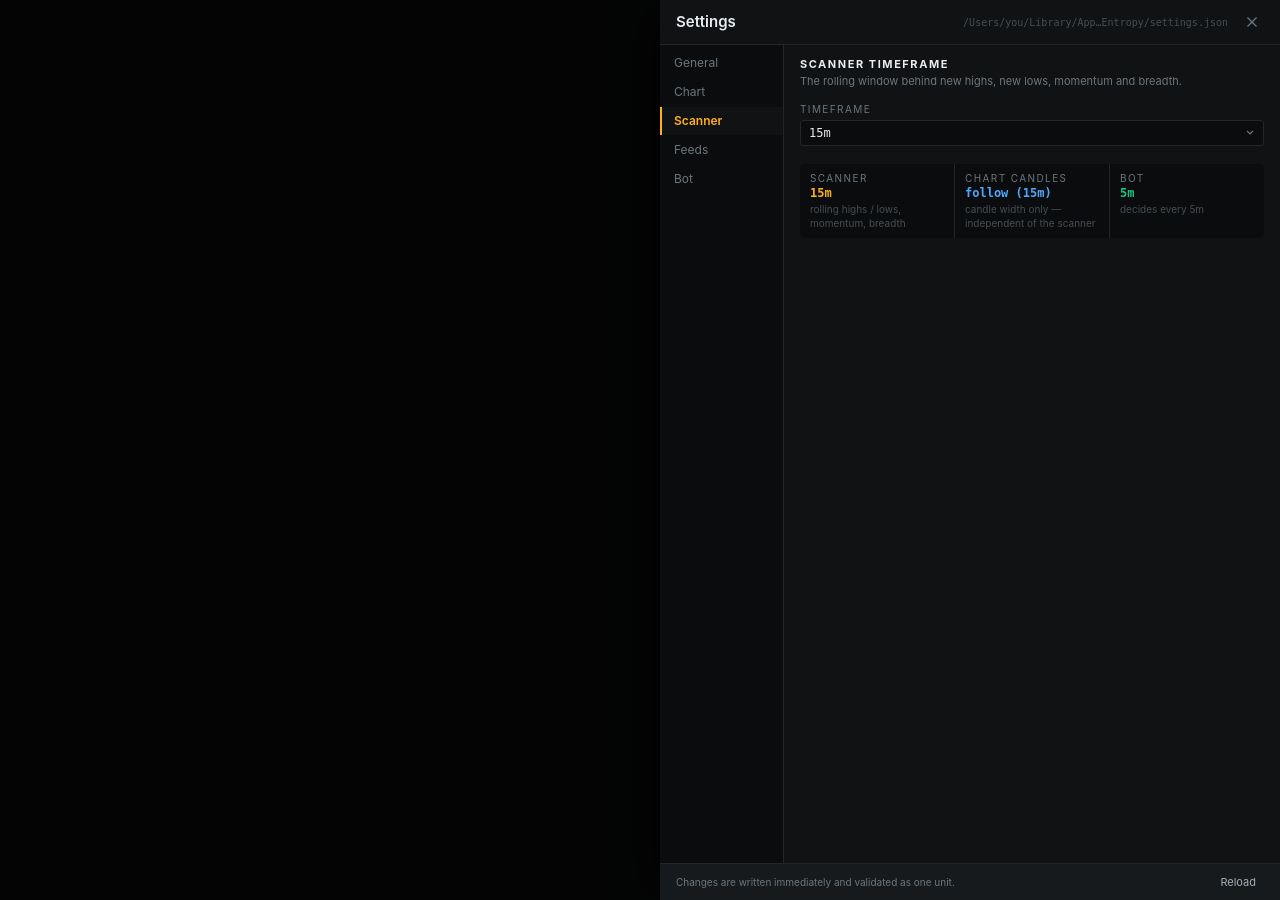
Test: SettingsDrawer › surfaces every problem verbatim and says nothing was applied
Select "1h" in the dropdown labelled "Timeframe" at (1032, 133), box left=800, top=120, right=1264, bottom=146
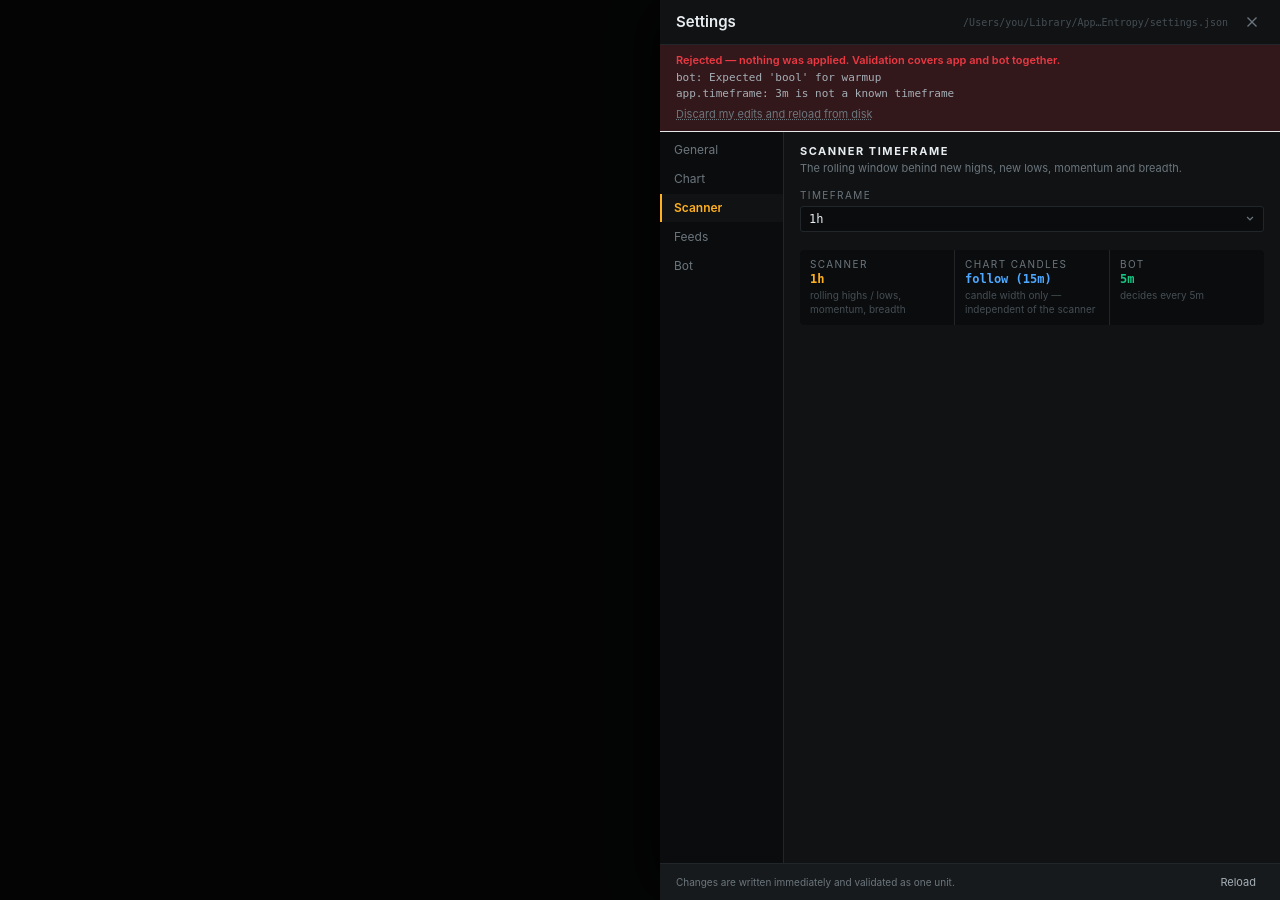
Expected: the text "nothing was applied" is shown, left=676, top=53, right=1060, bottom=67
Expected: the list item "bot: Expected 'bool' for warmup" is shown, left=676, top=71, right=881, bottom=84
Expected: the list item "app.timeframe: 3m is not a known timeframe" is shown, left=676, top=87, right=954, bottom=100
